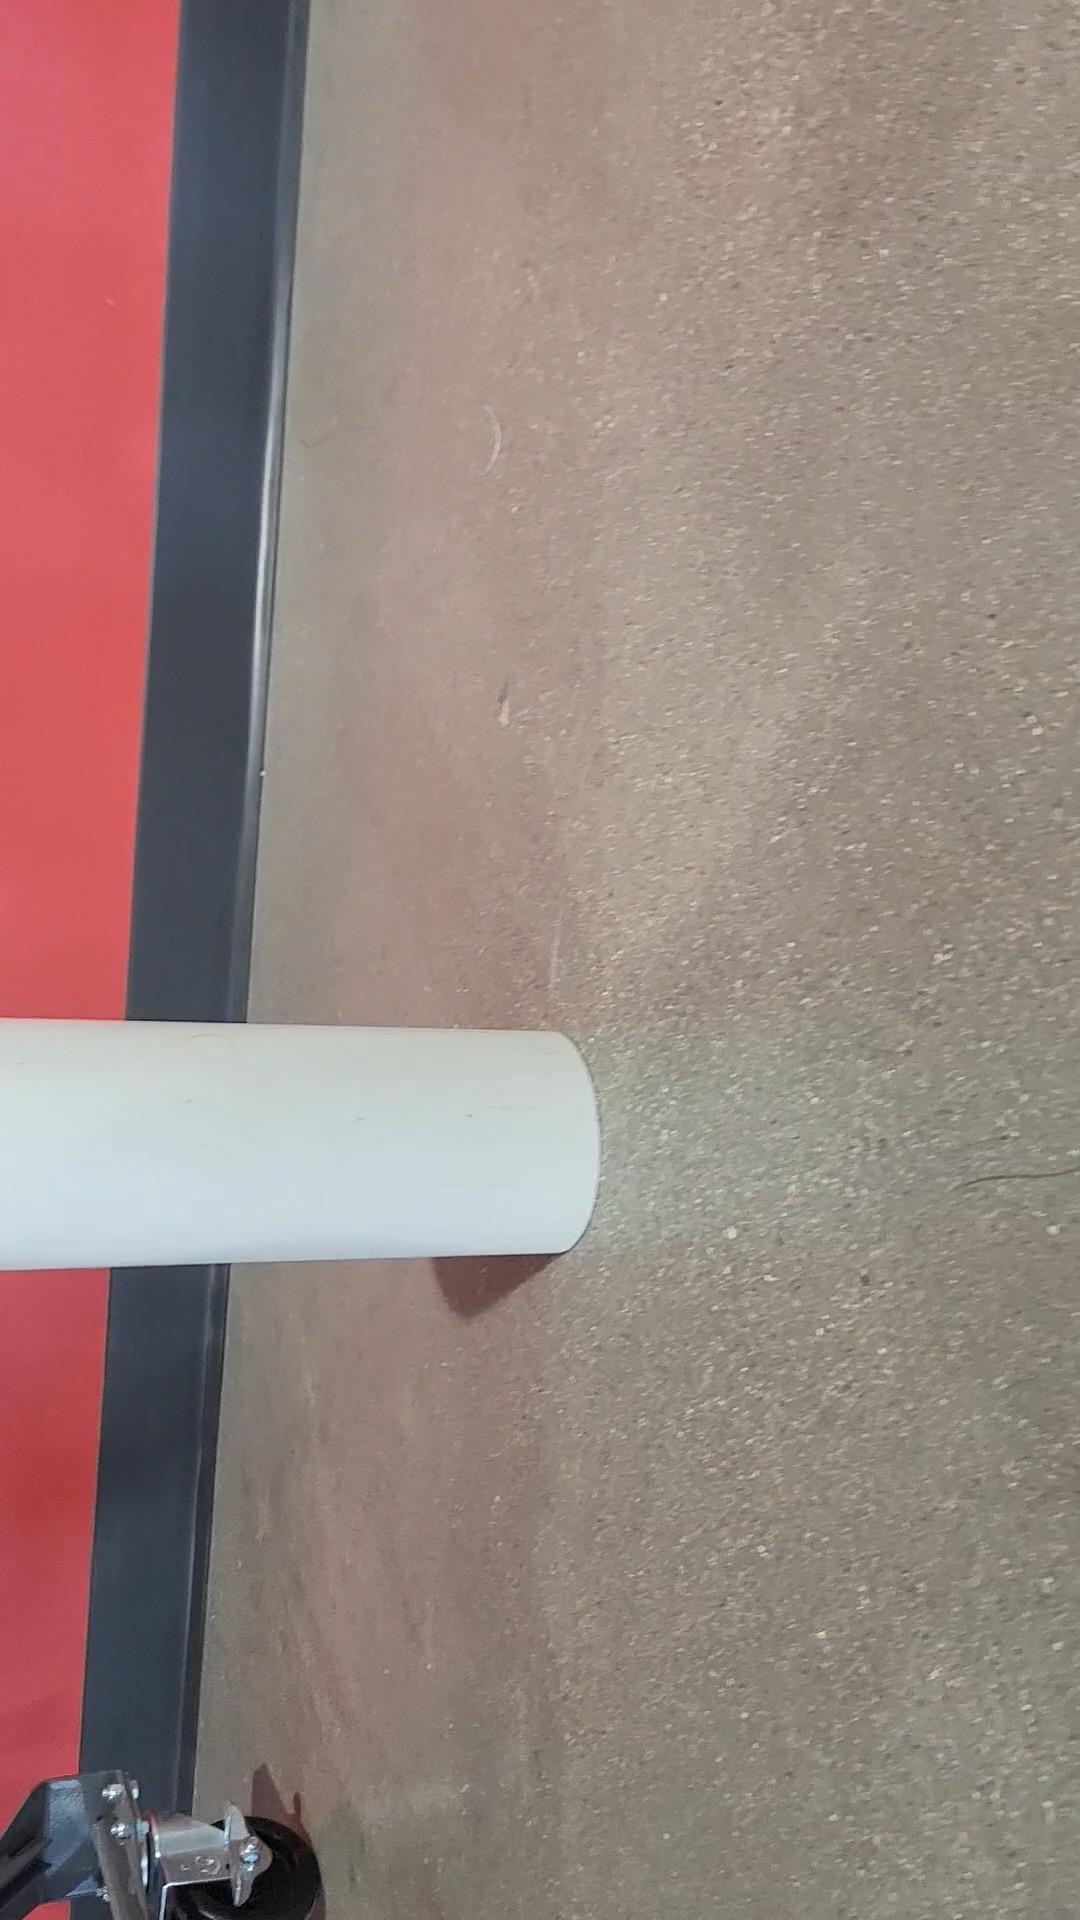coral: (0, 1015, 600, 1278)
